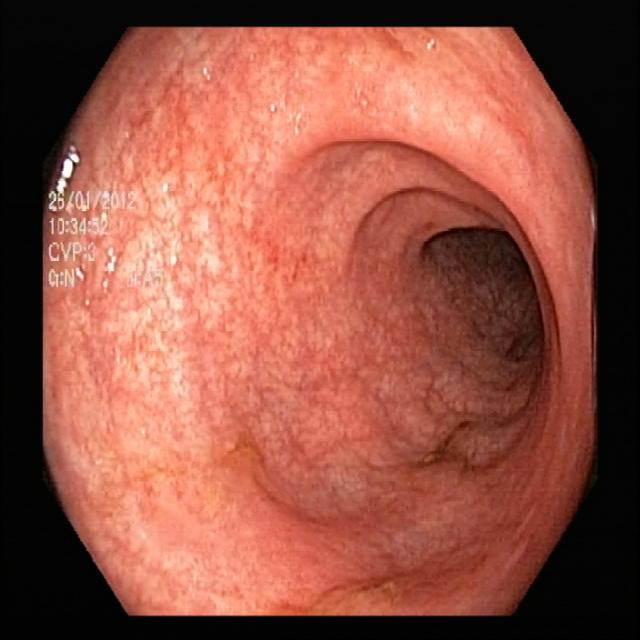ulcerative-colities: (72, 427, 280, 532), (411, 387, 499, 489)
